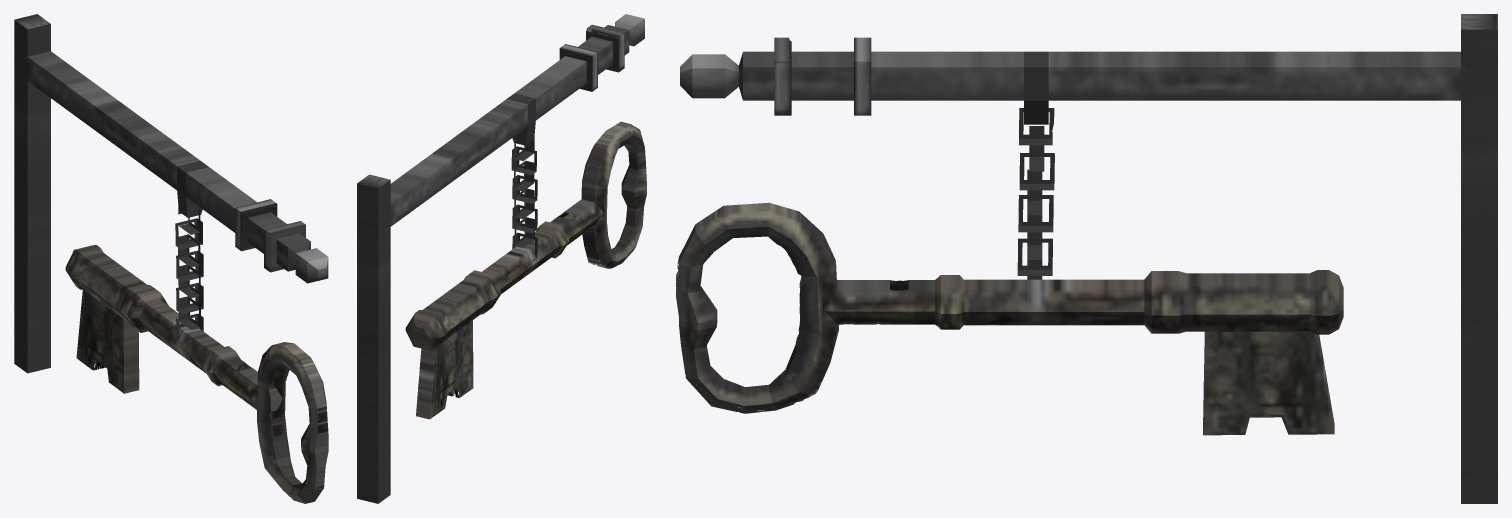
The model's file is Sign_361x8.obj.
3 renders of one model, left to right at view 1: azimuth 30°, elevation 25°; view 2: azimuth 150°, elevation 25°; view 3: azimuth 270°, elevation 25°, orthographic. The views are drawn at different scales.
Parts seen in each view (by area): view 1: Sign_361x8; view 2: Sign_361x8; view 3: Sign_361x8.
Part boxes in pixels (x1,y1,x2,y2): Sign_361x8: [14, 14, 328, 503]; Sign_361x8: [357, 14, 646, 503]; Sign_361x8: [676, 14, 1497, 503].
Size of the model in its own units: 0.145 by 1.17 by 1.84.
